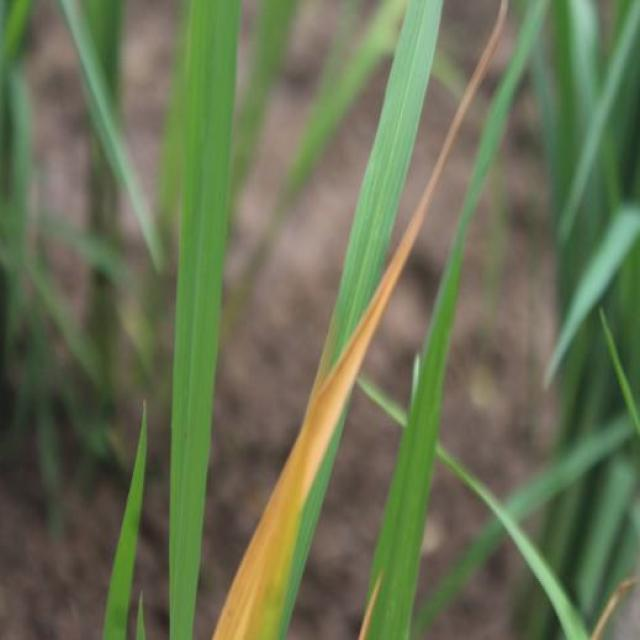Tungro: (206, 108, 448, 640)
